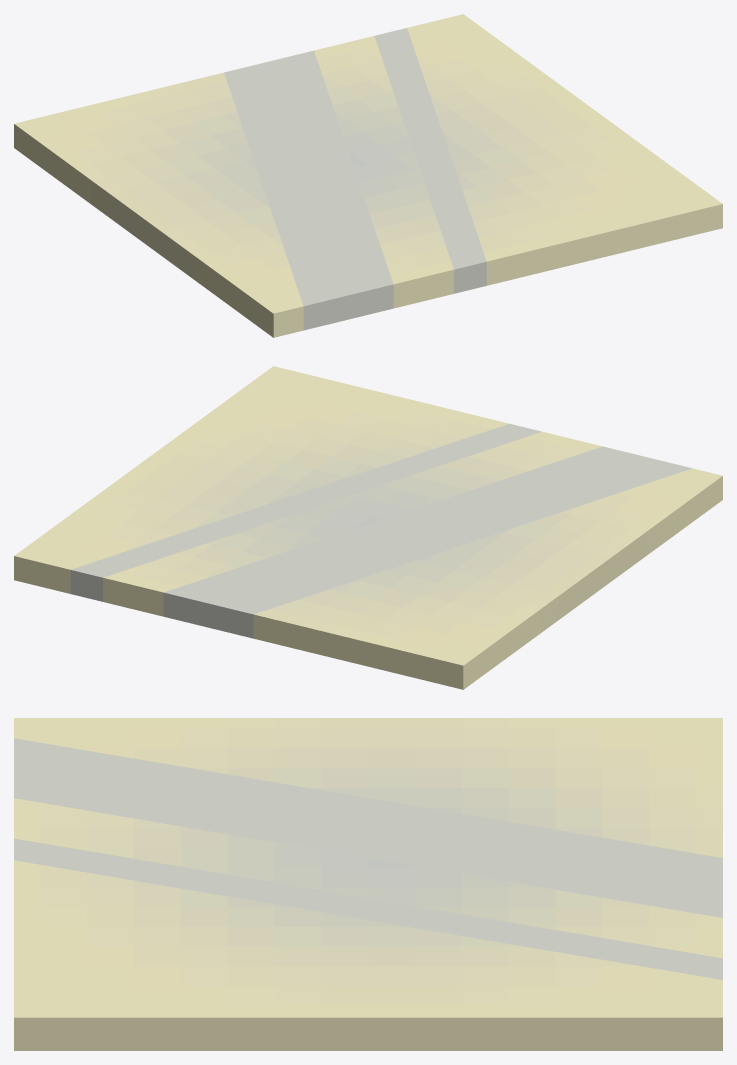
File: squidgame_props_glassbridge_glass.fbx
The picture shows the model from 3 angles, top to bottom: view 1: azimuth 30°, elevation 25°; view 2: azimuth 150°, elevation 25°; view 3: azimuth 270°, elevation 25°; orthographic projection. The views are drawn at different scales.
Visible parts, largest first — view 1: squidgame_props_glassbridge_glass; view 2: squidgame_props_glassbridge_glass; view 3: squidgame_props_glassbridge_glass.
Boxes of the visible parts, bbox=[...] form: squidgame_props_glassbridge_glass: bbox=[14, 14, 722, 337]; squidgame_props_glassbridge_glass: bbox=[14, 366, 722, 689]; squidgame_props_glassbridge_glass: bbox=[14, 718, 722, 1050].
Bounding box in the file's own units: 1.3 × 0.067 × 1.3.
